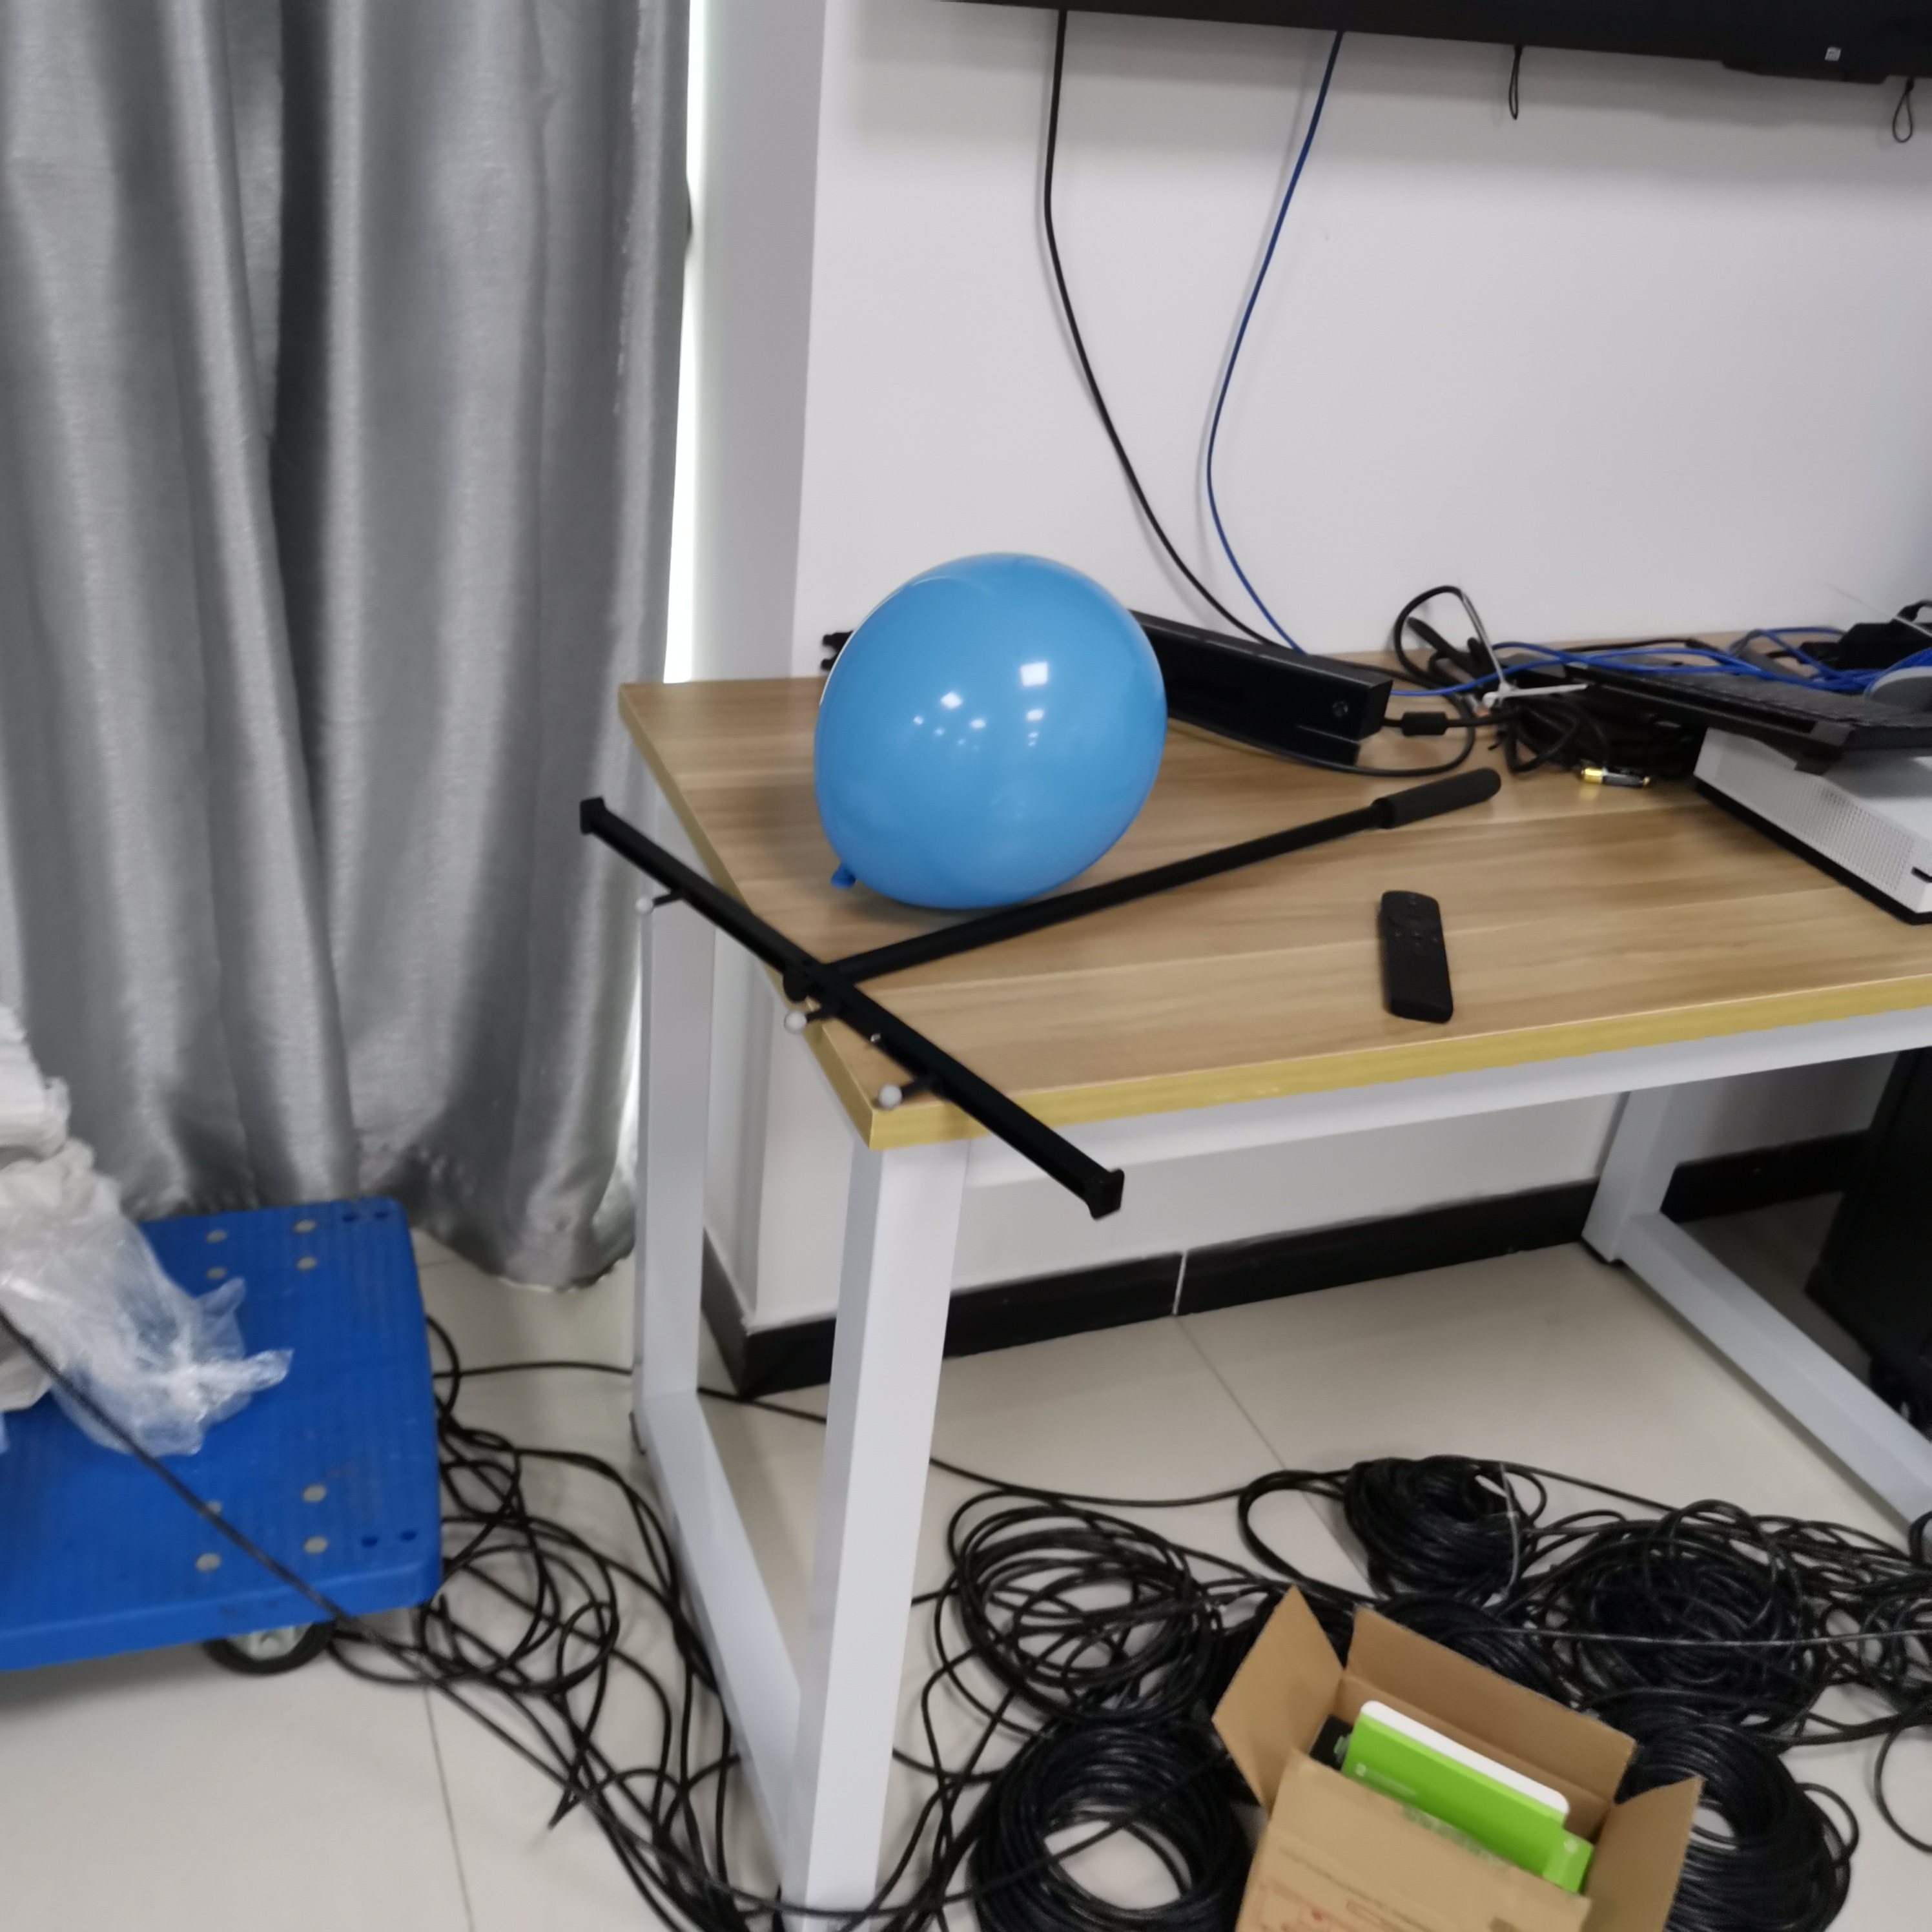balloon: (816, 550, 1168, 916)
